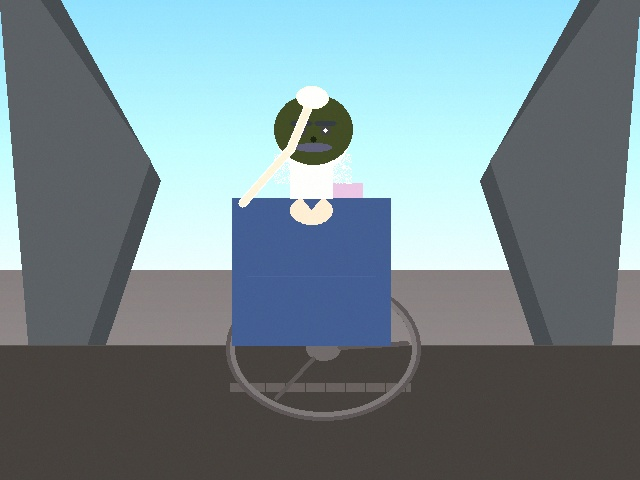hands_off_wheel: (293, 77, 331, 116)
